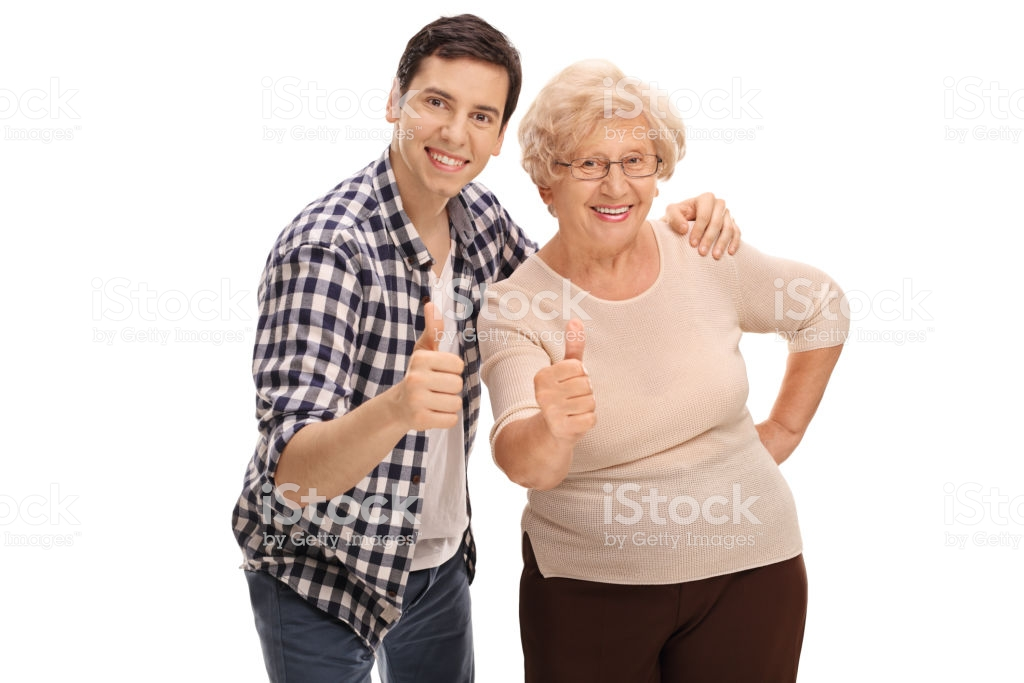thumbsup: (401, 300, 468, 436), (528, 319, 598, 444)
